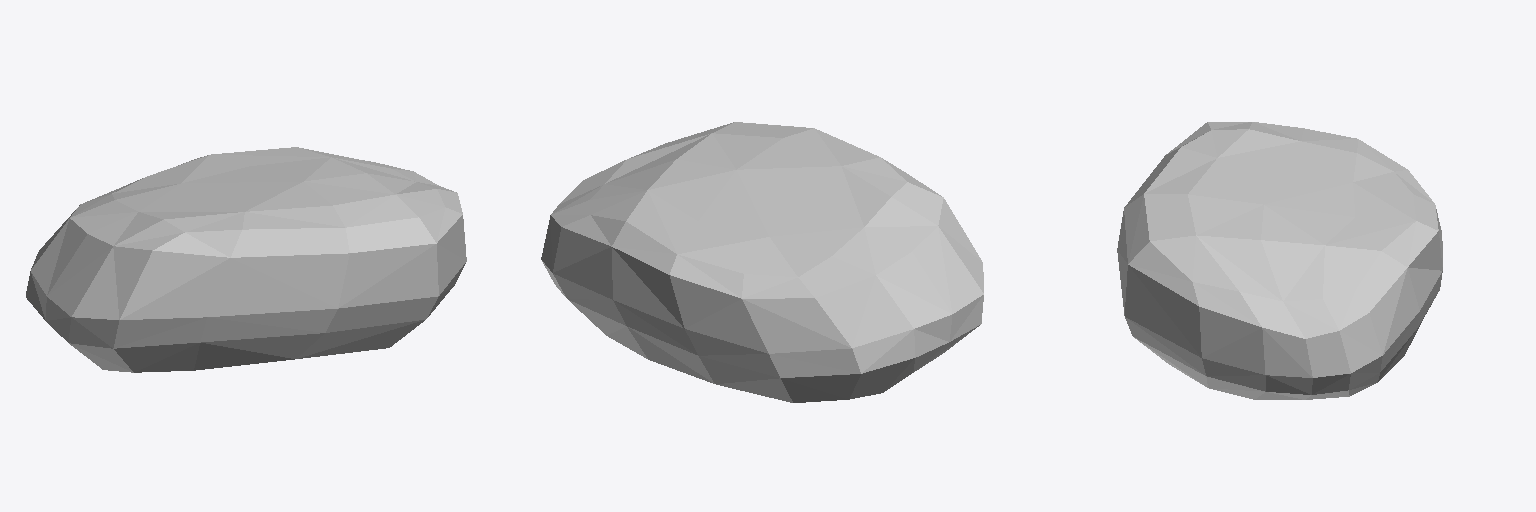
Rendered from stoned_1.obj.
3 renders of one model, left to right at view 1: azimuth 30°, elevation 25°; view 2: azimuth 150°, elevation 25°; view 3: azimuth 270°, elevation 25°, orthographic.
Visible parts, largest first — view 1: Cube; view 2: Cube; view 3: Cube.
Part boxes in pixels (left/top/right/bottom): Cube: left=26, top=147, right=466, bottom=372; Cube: left=541, top=122, right=983, bottom=402; Cube: left=1117, top=122, right=1442, bottom=399.
Size of the model in its own units: 5 by 1.86 by 3.51.